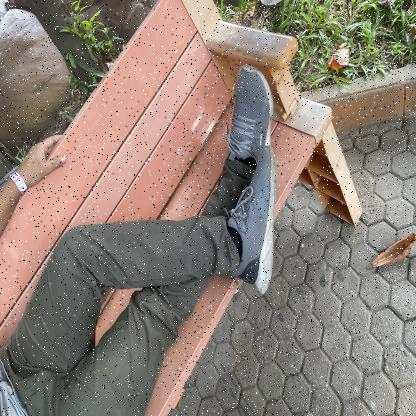hand: (0, 113, 77, 214)
leg: (207, 138, 289, 308), (187, 47, 280, 172)
